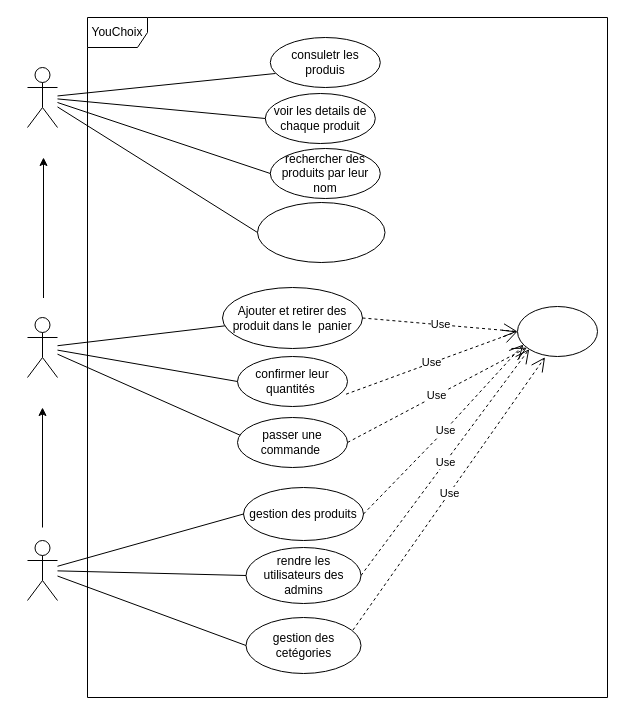
Some shapes in this 625 by 715 pixel diagram are drawn without their labels. The shapes that lost their labels are listed below. From the top down, each one's centre as x and y in pixels, then its label:
point 42,97: visiteur
point 320,232: filtrer des produits par leur categories
point 42,347: utilisateur
point 557,331: LOGIN
point 42,570: Admin
